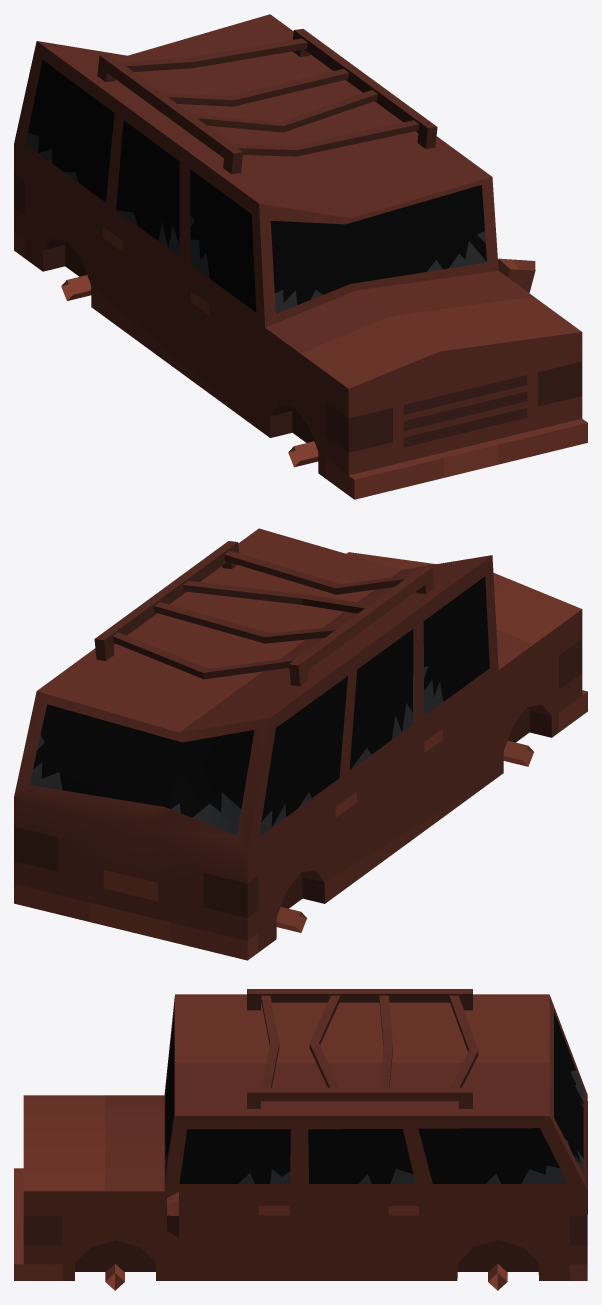
The model's file is SA_Prop_BurntBrown_Car_01.glb.
The picture shows the model from 3 angles, top to bottom: view 1: azimuth 30°, elevation 25°; view 2: azimuth 150°, elevation 25°; view 3: azimuth 270°, elevation 25°; orthographic projection. The views are drawn at different scales.
Parts seen in each view (by area): view 1: SA_Prop_BurntBrown_Car_01; view 2: SA_Prop_BurntBrown_Car_01; view 3: SA_Prop_BurntBrown_Car_01.
Part boxes in pixels (x1,y1,x2,y2): SA_Prop_BurntBrown_Car_01: (14, 14, 587, 499); SA_Prop_BurntBrown_Car_01: (14, 528, 587, 960); SA_Prop_BurntBrown_Car_01: (14, 989, 587, 1290).
Size of the model in its own units: 1.17 by 1.01 by 2.47.
Materials: 1 (1 with a texture image).
